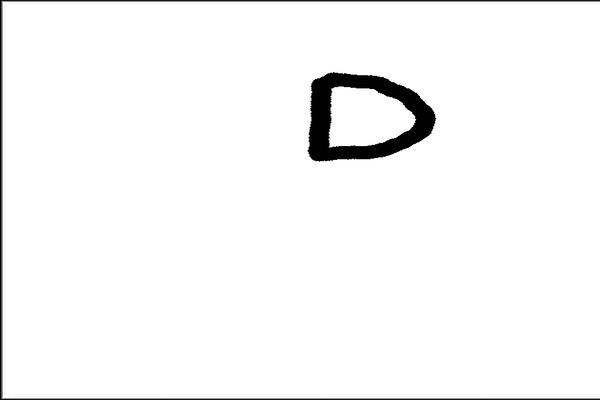D: (302, 64, 439, 167)
